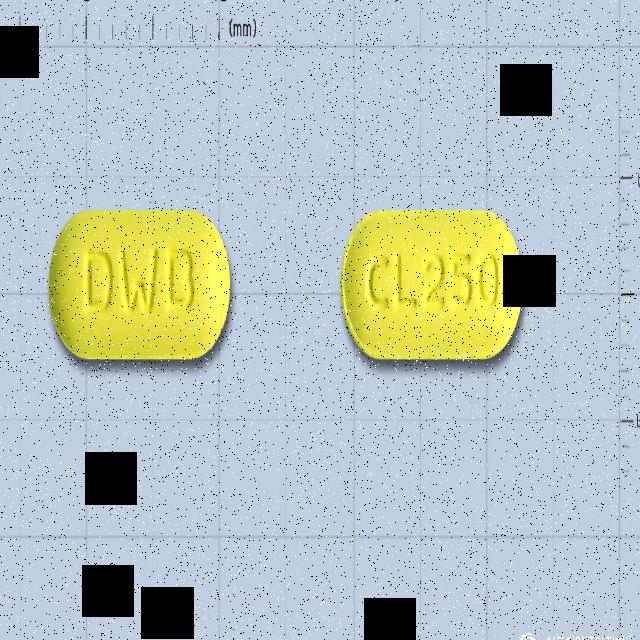Daewoong Clarithromycin: (342, 208, 524, 360), (49, 209, 232, 360)
